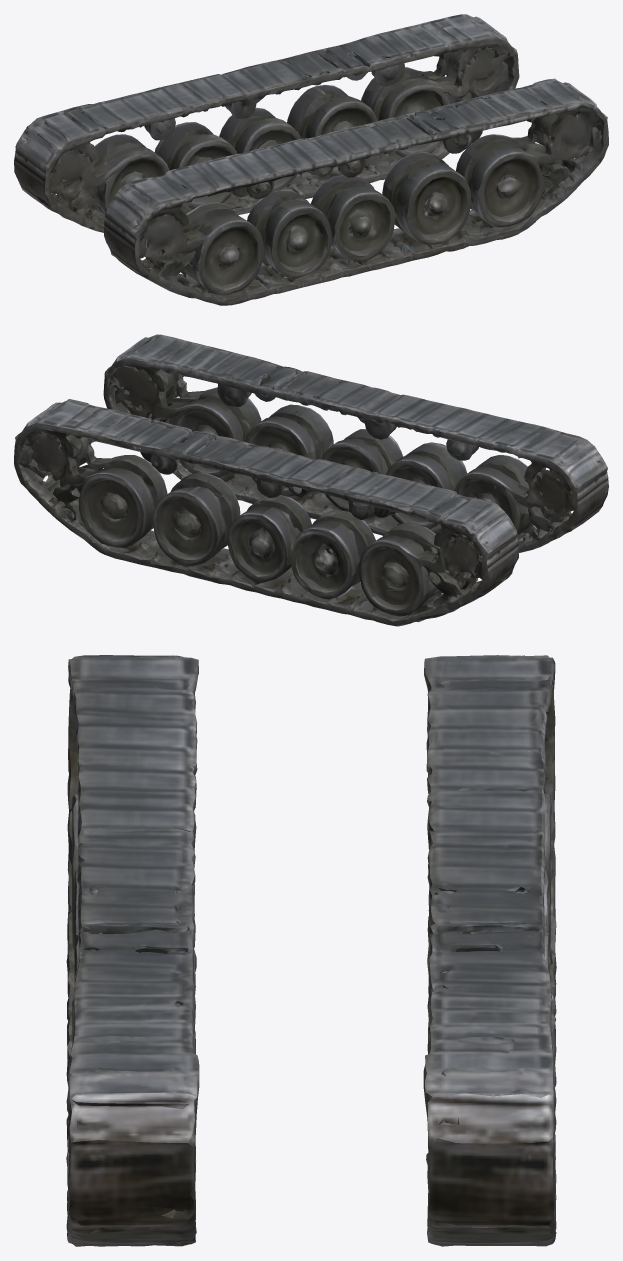
The model's file is heavy_tracks_only.glb.
3 renders of one model, top to bottom at view 1: azimuth 30°, elevation 25°; view 2: azimuth 150°, elevation 25°; view 3: azimuth 270°, elevation 25°, orthographic. The views are drawn at different scales.
Visible parts, largest first — view 1: geometry_0; view 2: geometry_0; view 3: geometry_0.
Part boxes in pixels (x1,y1,x2,y2): geometry_0: [14, 14, 608, 305]; geometry_0: [14, 334, 608, 626]; geometry_0: [66, 655, 556, 1246].
Bounding box in the file's own units: 3.5 × 0.8534 × 1.56.
Materials: 1 (1 with a texture image).
